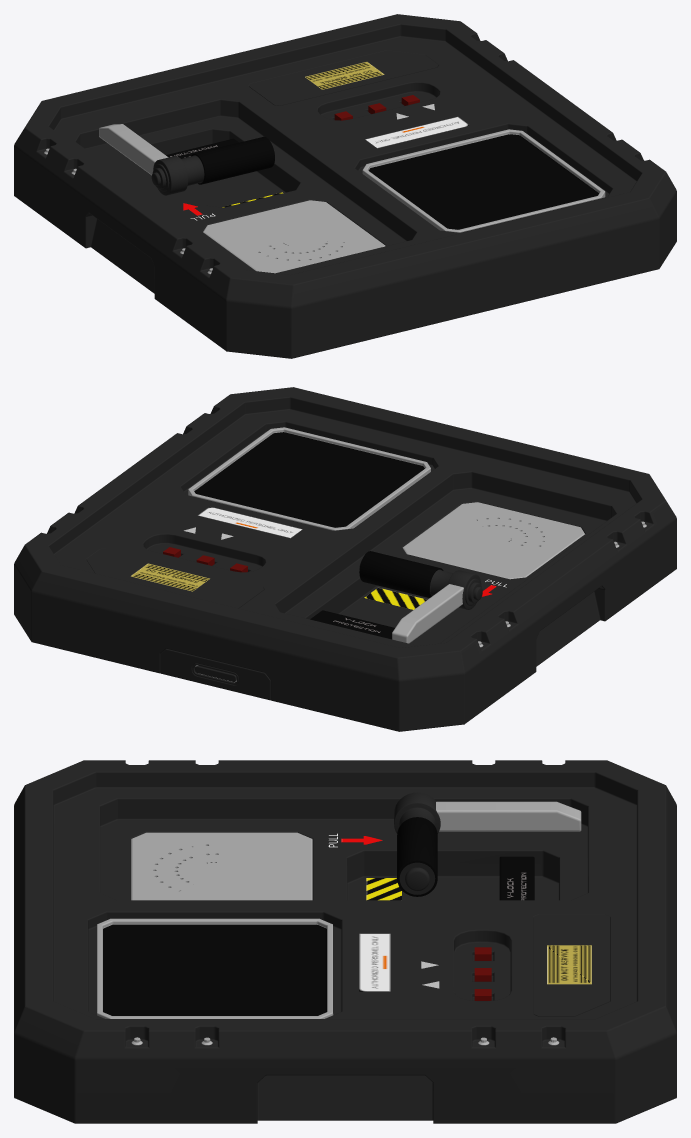
The model's file is sci fi contrtol panel2.fbx.
3 renders of one model, top to bottom at view 1: azimuth 30°, elevation 25°; view 2: azimuth 150°, elevation 25°; view 3: azimuth 270°, elevation 25°, orthographic. The views are drawn at different scales.
Parts seen in each view (by area): view 1: Cube, Cube.006, Cube.002, Cylinder, Cube.005, Cube.001, decal3, warnsign3; view 2: Cube, Cube.006, Cube.002, Cylinder, Cube.005, Cube.007, Cube.001, decal3, warnsign3, Cube.003, warnsign2, Cube.008; view 3: Cube, Cube.006, Cube.002, Cube.005, Cube.001, Cylinder, decal3, warnsign3, Cube.003, warnsign2, Cube.004.
Part boxes in pixels (x1=…): Cube: x1=14, y1=14, x2=676, y2=358; Cube.006: x1=362, y1=129, x2=605, y2=232; Cube.002: x1=203, y1=200, x2=385, y2=273; Cylinder: x1=151, y1=136, x2=274, y2=195; Cube.005: x1=249, y1=50, x2=438, y2=105; Cube.001: x1=99, y1=124, x2=168, y2=175; decal3: x1=365, y1=116, x2=469, y2=148; warnsign3: x1=305, y1=62, x2=384, y2=89; Cube: x1=14, y1=387, x2=676, y2=731; Cube.006: x1=188, y1=427, x2=430, y2=530; Cube.002: x1=402, y1=502, x2=584, y2=579; Cylinder: x1=359, y1=551, x2=482, y2=609; Cube.005: x1=86, y1=548, x2=264, y2=608; Cube.007: x1=160, y1=649, x2=270, y2=700; Cube.001: x1=392, y1=584, x2=463, y2=643; decal3: x1=198, y1=506, x2=302, y2=538; warnsign3: x1=131, y1=563, x2=209, y2=591; Cube.003: x1=310, y1=610, x2=394, y2=639; warnsign2: x1=364, y1=587, x2=427, y2=609; Cube.008: x1=192, y1=663, x2=238, y2=684; Cube: x1=14, y1=760, x2=676, y2=1123; Cube.006: x1=97, y1=918, x2=333, y2=1018; Cube.002: x1=131, y1=832, x2=312, y2=900; Cube.005: x1=534, y1=914, x2=609, y2=1016; Cube.001: x1=436, y1=801, x2=581, y2=831; Cylinder: x1=394, y1=792, x2=440, y2=896; decal3: x1=359, y1=933, x2=390, y2=991; warnsign3: x1=547, y1=945, x2=591, y2=984; Cube.003: x1=499, y1=856, x2=534, y2=900; warnsign2: x1=366, y1=878, x2=401, y2=900; Cube.004: x1=474, y1=947, x2=491, y2=1000.
Bounding box in the file's own units: 200 × 31.75 × 200.
Materials: 12 (6 with a texture image).
